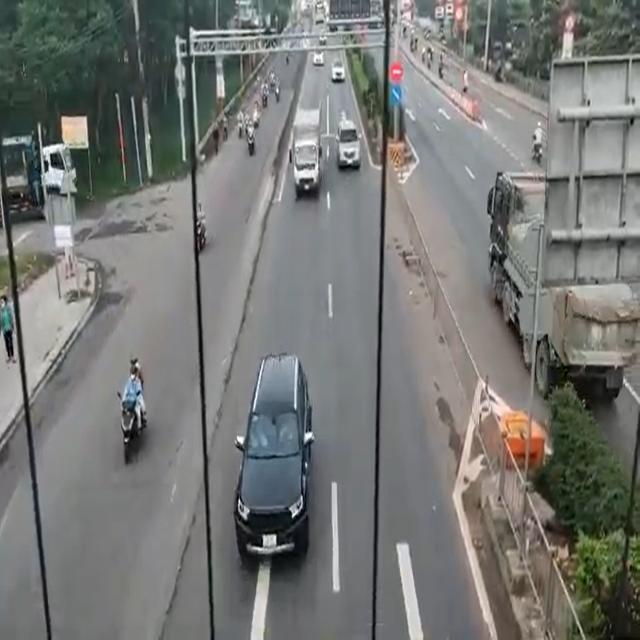car: (239, 356, 306, 554), (334, 114, 358, 172)
motor: (121, 370, 142, 453)
truck: (485, 163, 630, 374), (292, 105, 323, 198)
